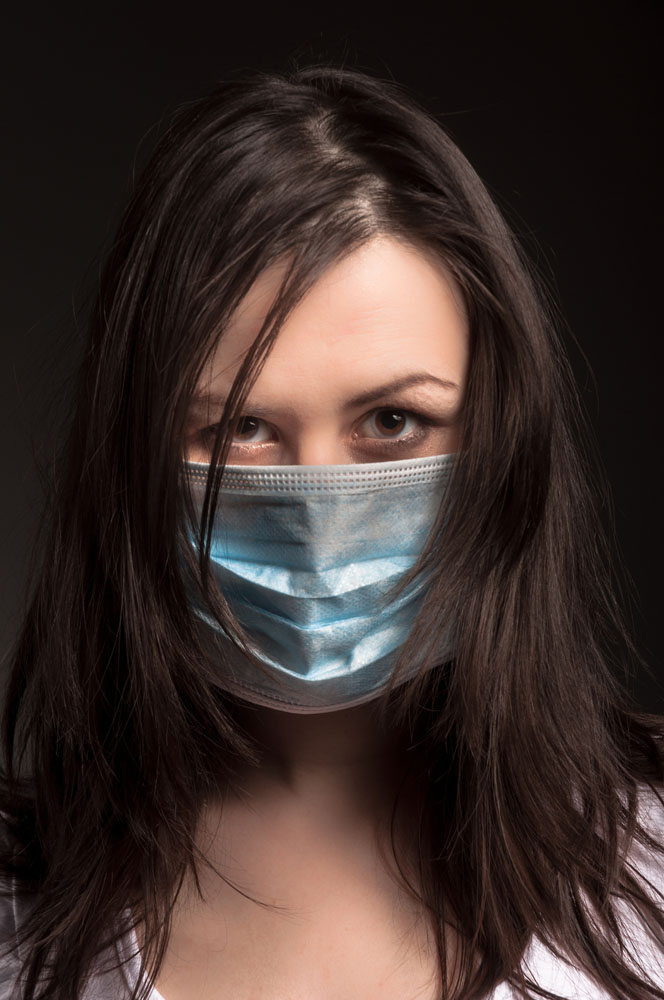face_mask: (177, 226, 458, 715)
